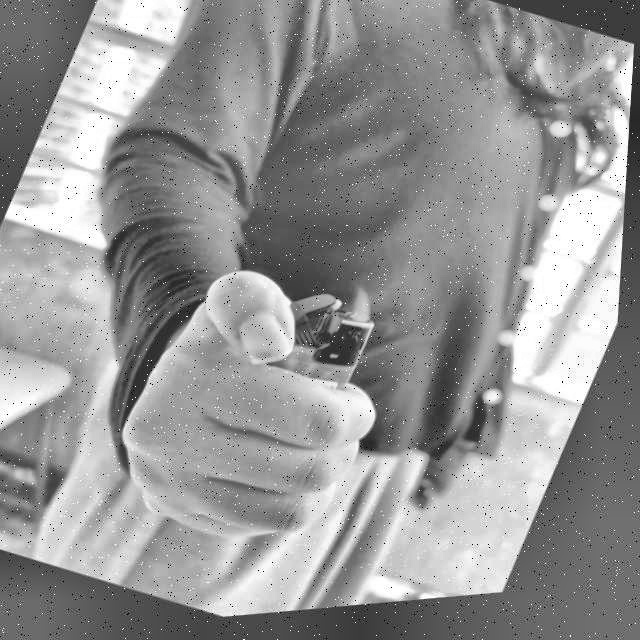Fire: (344, 286, 388, 335)
